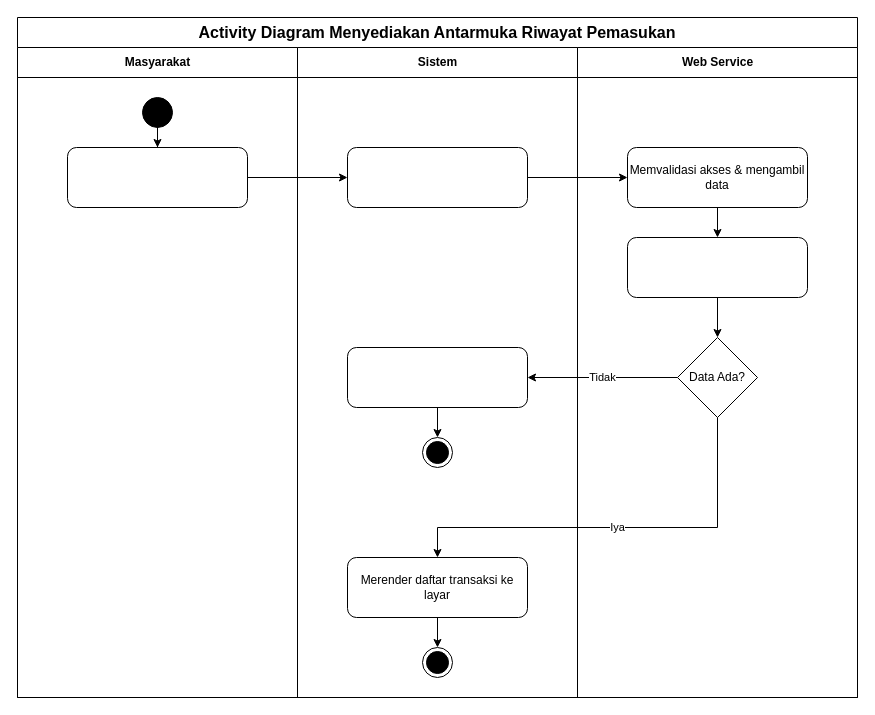
This 875x715 diagram has some shape labels left out. The centre of each missing label's shape, as x and y in pixels:
"Membuka antarmuka riwayat pemasukan" goes at point 157,177.
"Meminta daftar riwayat pemasukan" goes at point 437,177.
"Menampilkan status kosong" goes at point 437,377.
"Mengembalikan daftar transaksi" goes at point 717,267.
